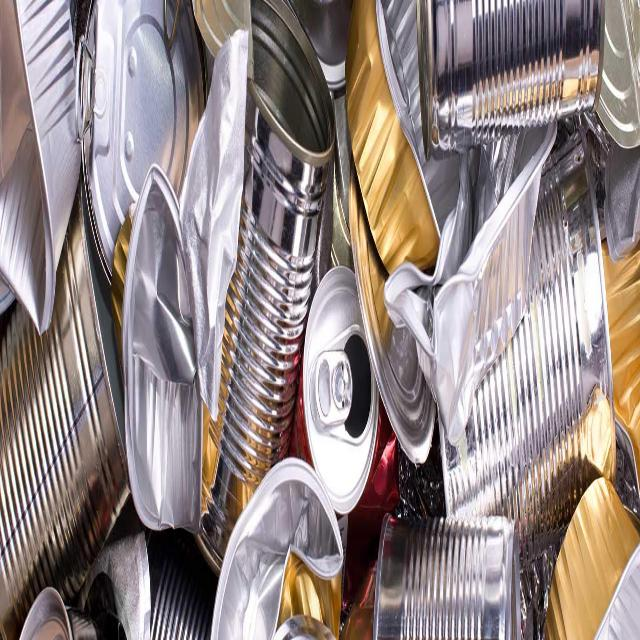metel: (115, 166, 256, 564), (212, 4, 308, 536), (3, 251, 125, 635), (387, 179, 564, 402), (71, 1, 204, 295), (344, 1, 459, 292), (395, 1, 617, 133), (291, 226, 386, 533), (369, 481, 535, 640), (219, 430, 341, 640), (5, 1, 82, 320), (533, 455, 640, 640), (84, 502, 166, 640), (567, 1, 640, 155), (13, 583, 111, 640)
